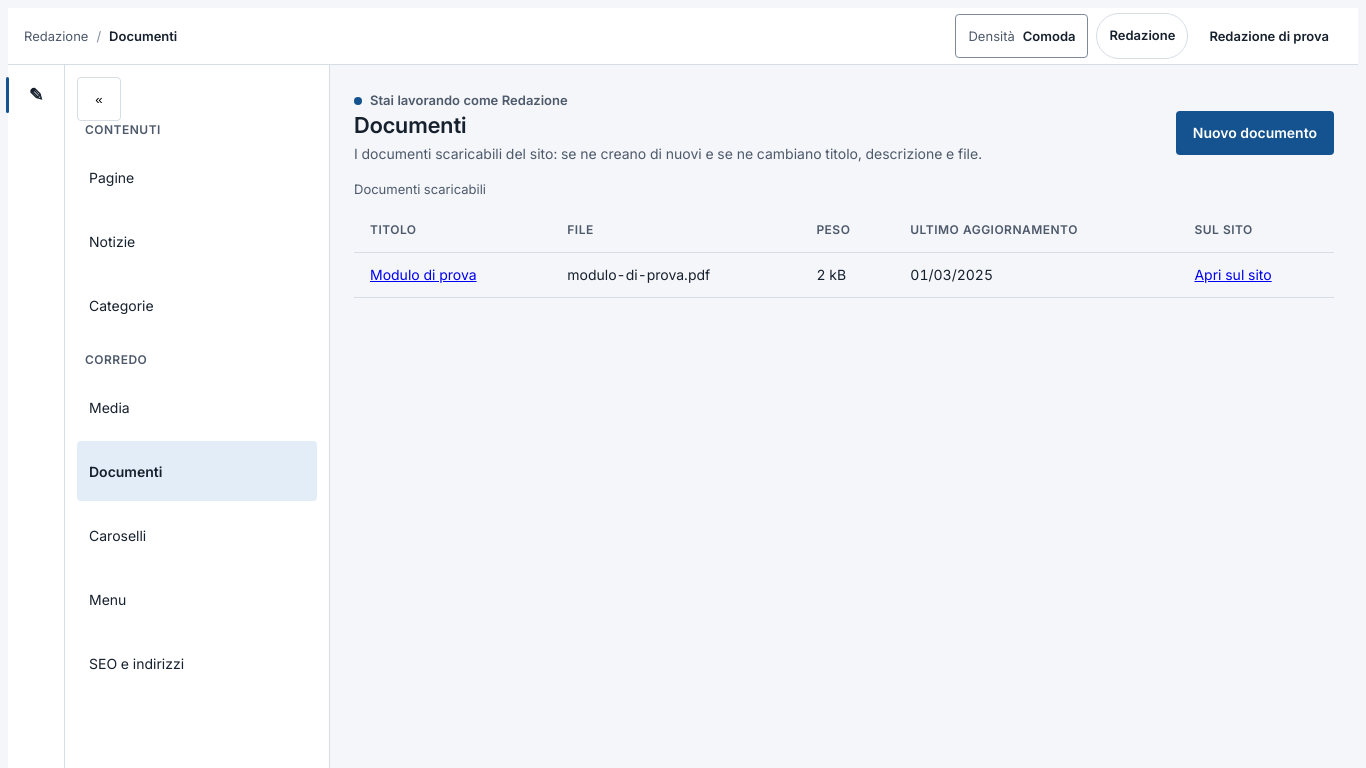
Test: «Nuovo documento» nell’elenco › la finestra chiede titolo, file PDF, descrizione e categoria dei download
Expected: the row "Modulo di prova" is shown, 354,252 -> 1334,297
What coordinates should you click on to do the following:
click the button "Nuovo documento"
I would click on:
 (1255, 133)
Its box is 1176,111 -> 1334,155.
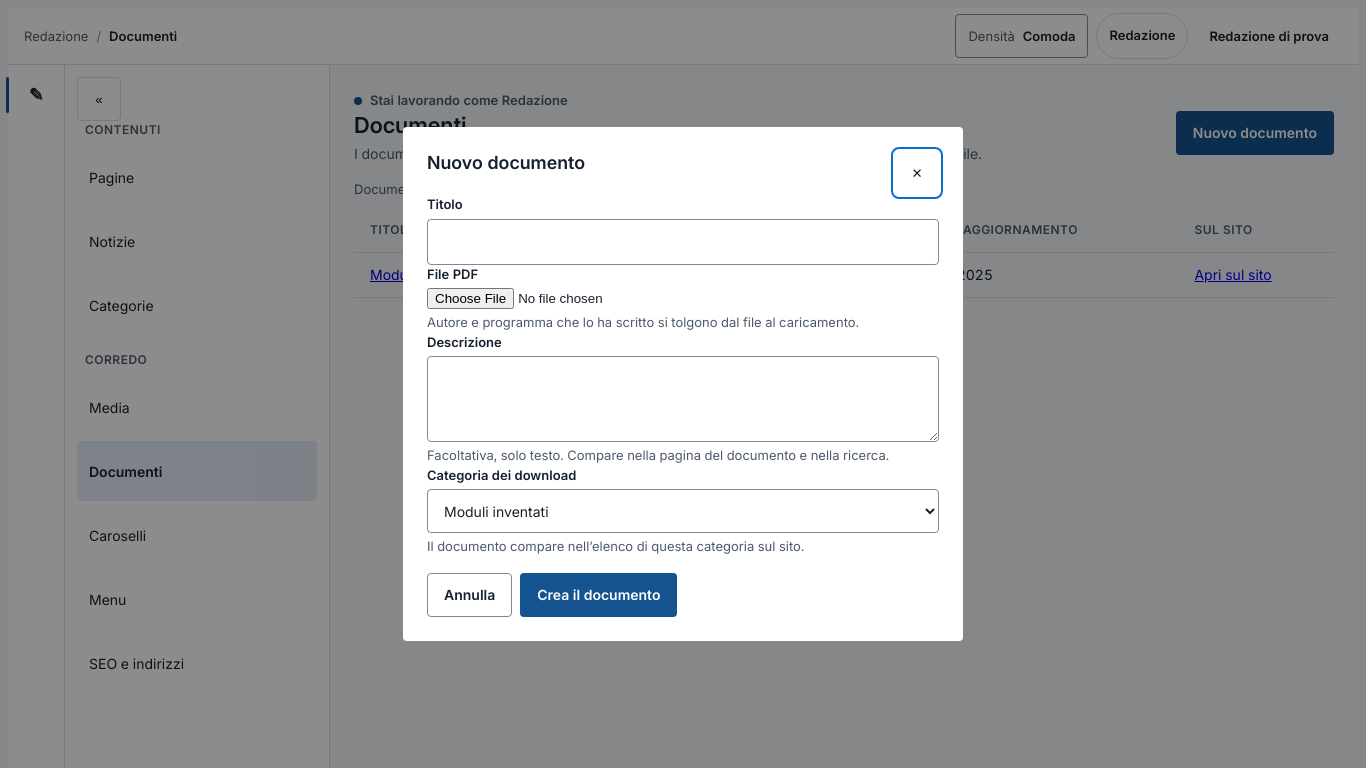
Result: the field labelled "Titolo" is shown at 427,219 -> 939,265
Result: the text box labelled "Descrizione" is shown at 427,356 -> 939,442
